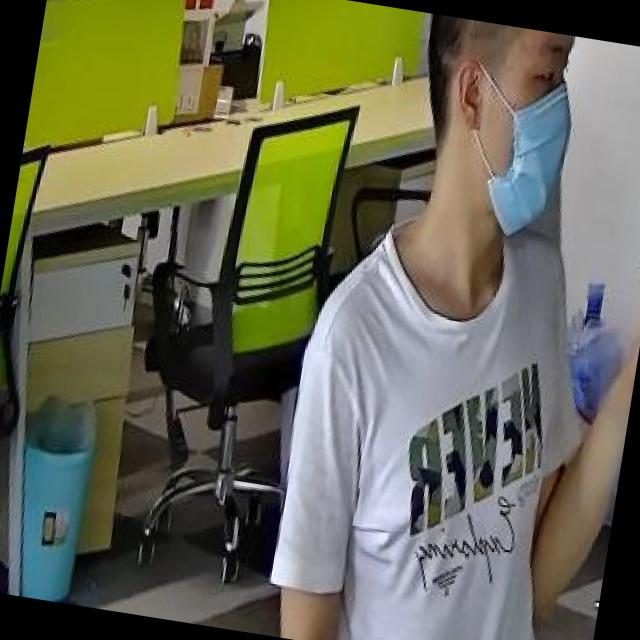Guns: (601, 170, 640, 413)
